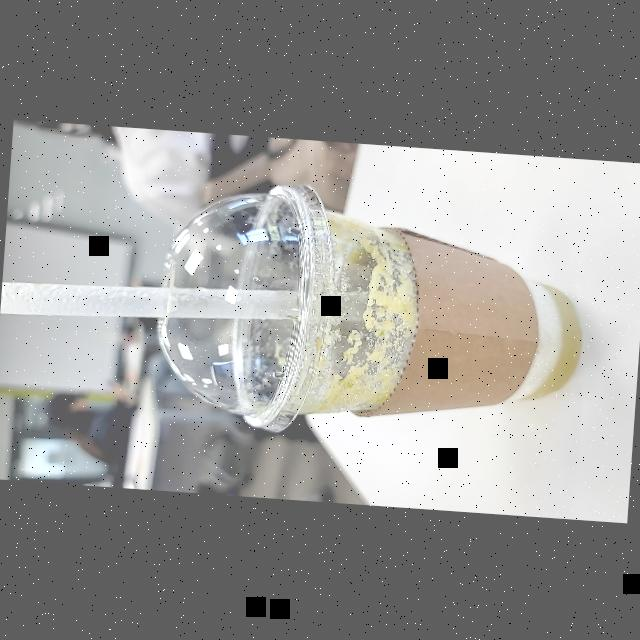plastic_cup: (140, 179, 598, 476)
plastic_cup_lid: (141, 169, 341, 438)
straw: (0, 282, 366, 313)
